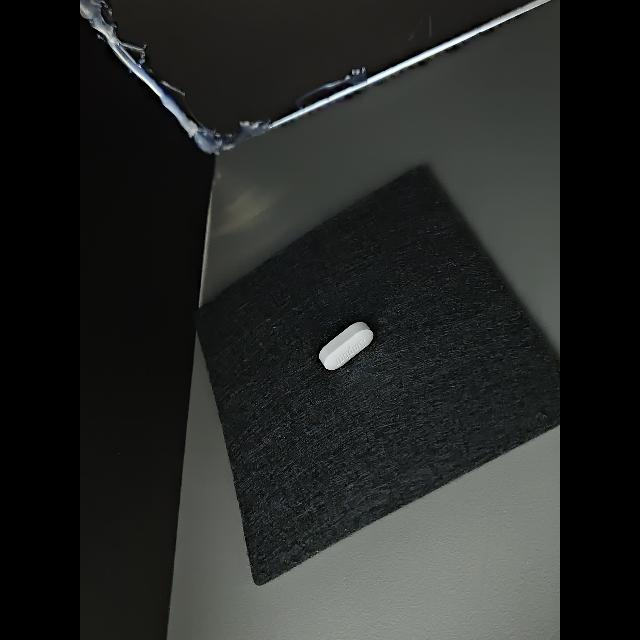Intact Pill: (319, 322, 373, 370)
